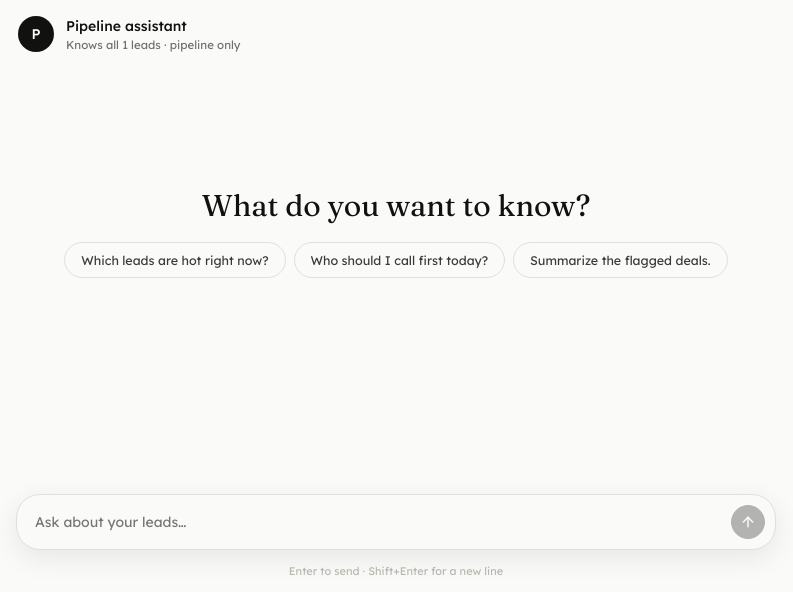
it: chat page grounds the assistant in all leads and chats
This screenshot has width=793, height=592.
Check: the text "Knows all 1 leads · pipeline only" is shown, box [66,36,240,52]
Step 1. Type "Who is hot?" into the text box named "Message" → (379, 522), box [35,506,723,539]
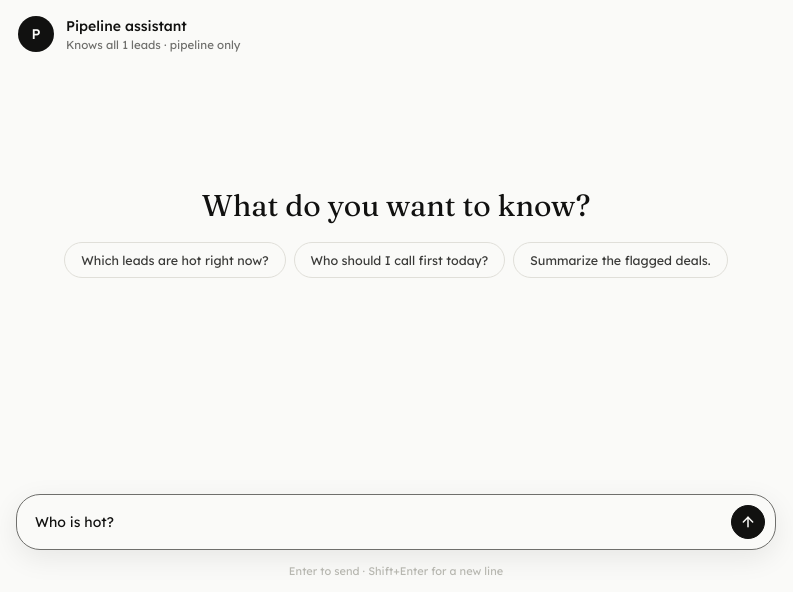
Step 2. Click the button named "Send" → click(748, 522), box [731,505,765,539]
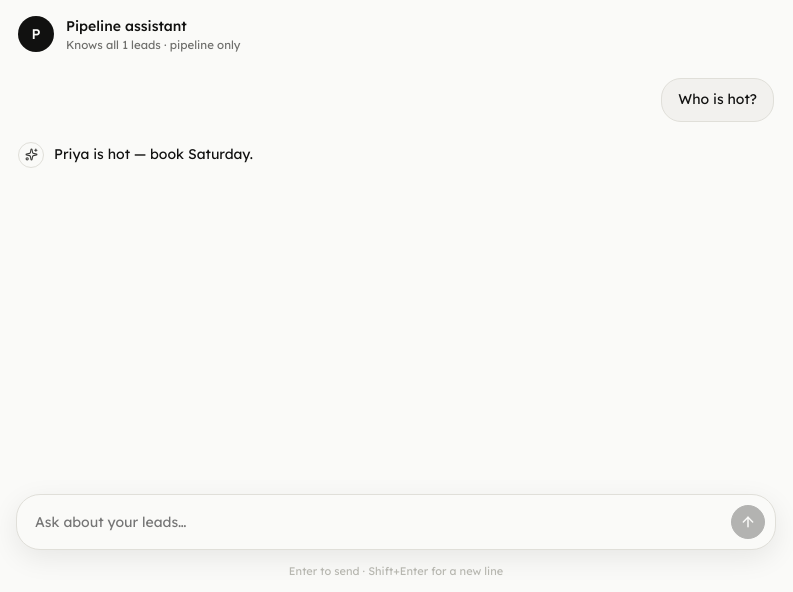
Check: the text "Priya is hot — book Saturday." is shown, box [54,145,253,163]
Check: the text "Who is hot?" is shown, box [661,78,774,122]
